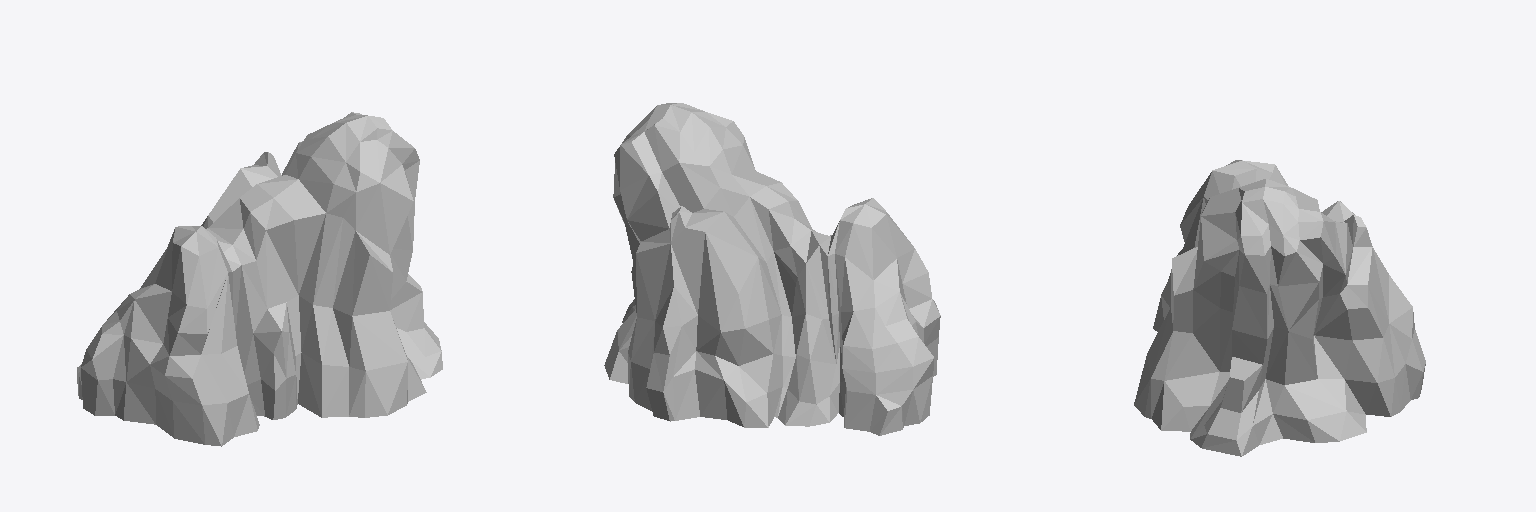
File: rock_005.obj
3 views of the same model, side by side, from view 1: azimuth 30°, elevation 25°; view 2: azimuth 150°, elevation 25°; view 3: azimuth 270°, elevation 25° (orthographic).
Parts seen in each view (by area): view 1: rock_005 rock_005; view 2: rock_005 rock_005; view 3: rock_005 rock_005.
Boxes of the visible parts, x1=… form: rock_005 rock_005: x1=77, y1=112, x2=442, y2=446; rock_005 rock_005: x1=604, y1=103, x2=940, y2=435; rock_005 rock_005: x1=1134, y1=160, x2=1425, y2=456.
Bounding box in the file's own units: 1313 × 914 × 1006.